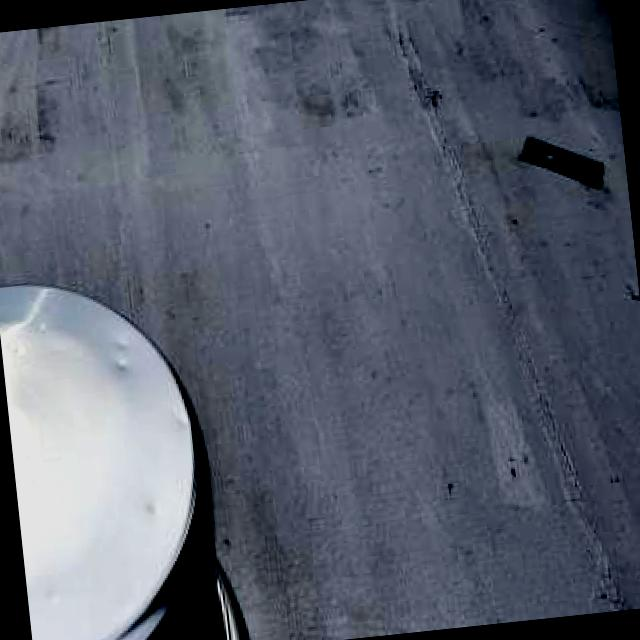GRAVITY-VENT: (0, 233, 252, 640)
